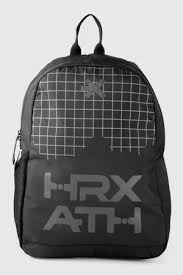backpack: (12, 13, 171, 259)
